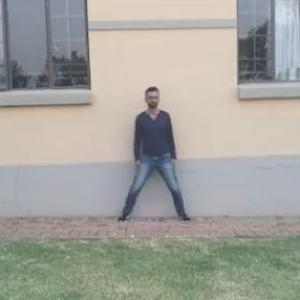follow: (133, 84, 175, 228)
